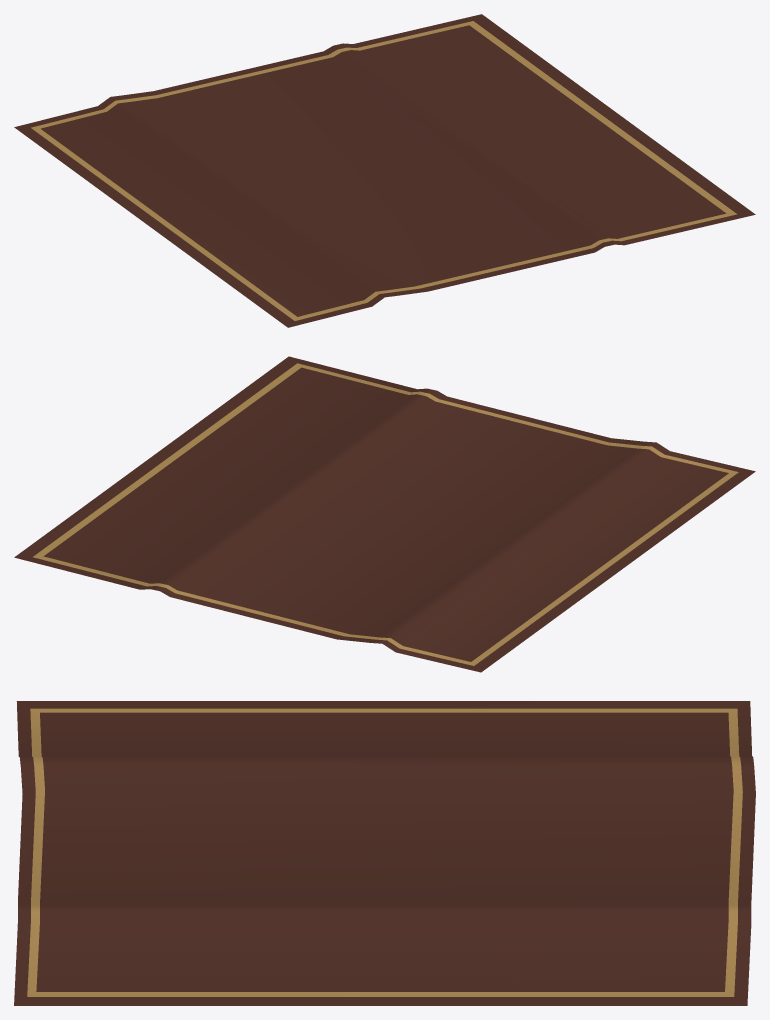
Rendered from Carpet_2.gltf.
3 views of the same model, one above another, from view 1: azimuth 30°, elevation 25°; view 2: azimuth 150°, elevation 25°; view 3: azimuth 270°, elevation 25° (orthographic). The views are drawn at different scales.
Visible parts, largest first — view 1: Carpet_2; view 2: Carpet_2; view 3: Carpet_2.
Boxes of the visible parts, x1,y1,x2,y2 form: Carpet_2: (14,14,755,327); Carpet_2: (14,356,755,672); Carpet_2: (14,701,755,1005).
Size of the model in its own units: 3.09 by 0.0367 by 3.18.
